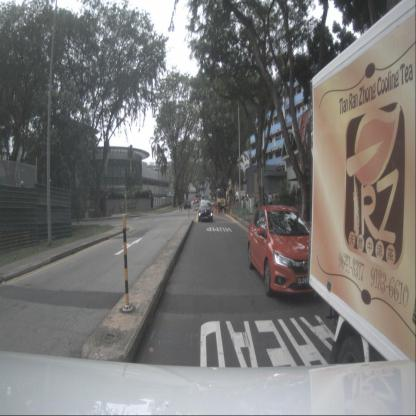human-pedestrian-adult: (267, 192, 273, 216), (274, 191, 278, 210), (178, 197, 182, 212), (264, 193, 267, 211)
movable_object-trafficcone: (229, 208, 233, 217), (215, 207, 219, 216), (222, 208, 225, 216), (213, 206, 215, 215)
vehicle-car: (247, 205, 322, 297), (198, 199, 213, 222), (184, 200, 191, 209)
vehicle-truck: (306, 1, 416, 384)
